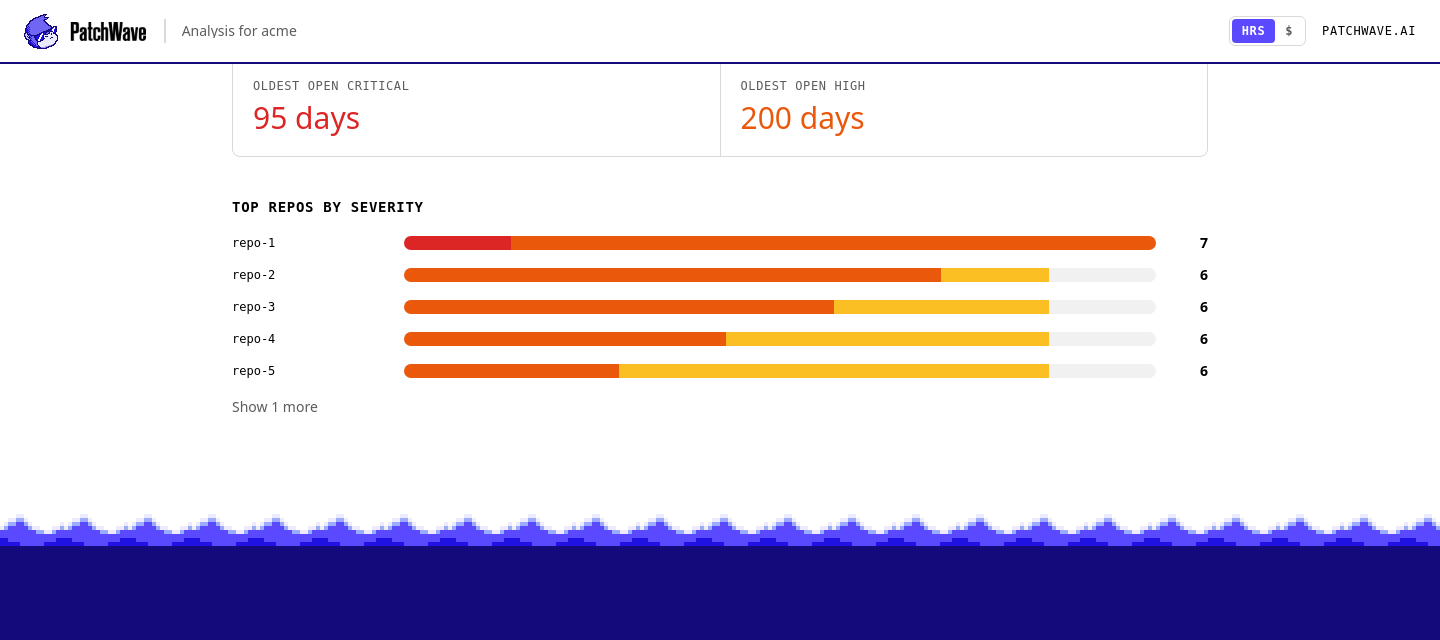
Test: security exposure › limits the top-repos table to five with an optional expansion
The width and height of the screenshot is (1440, 640).
(page scrolled)
Step 1. Click the button with test id "risk-story-top-repos-toggle" → (275, 405), box [232,393,318,417]
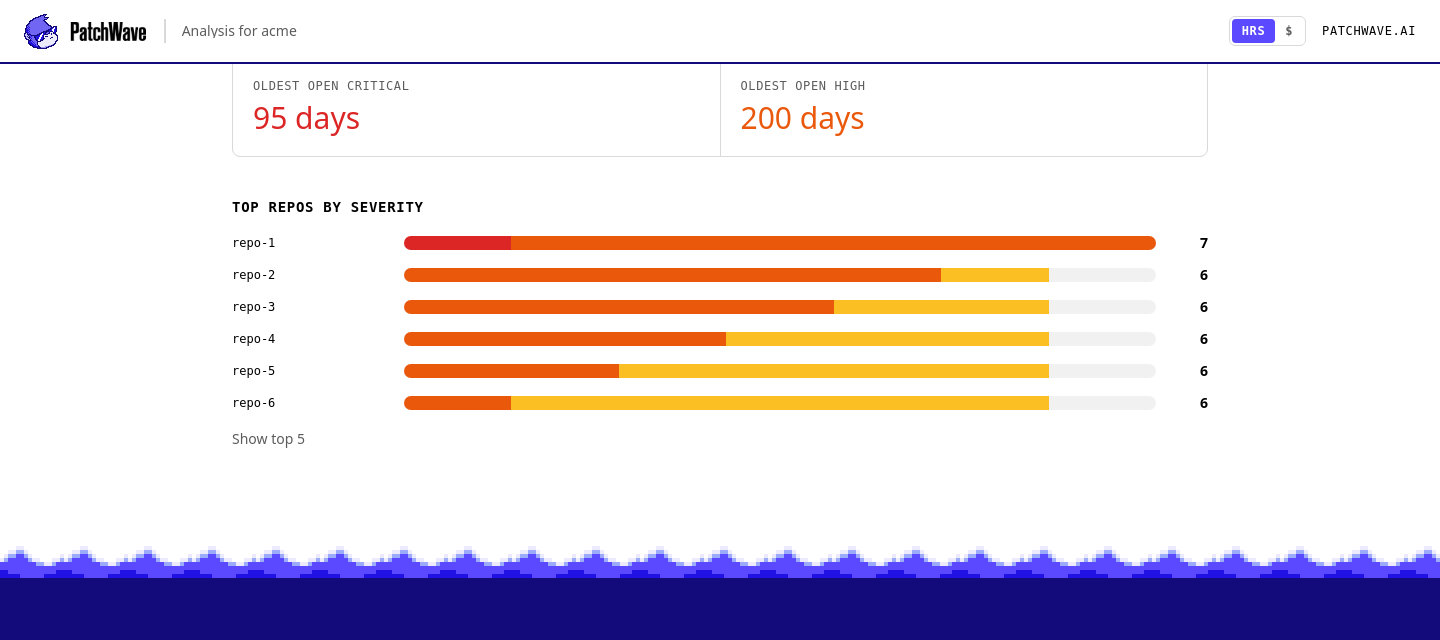
Expected: the button with test id "risk-story-top-repos-toggle" reads "Show top 5", [232,425,305,449]
